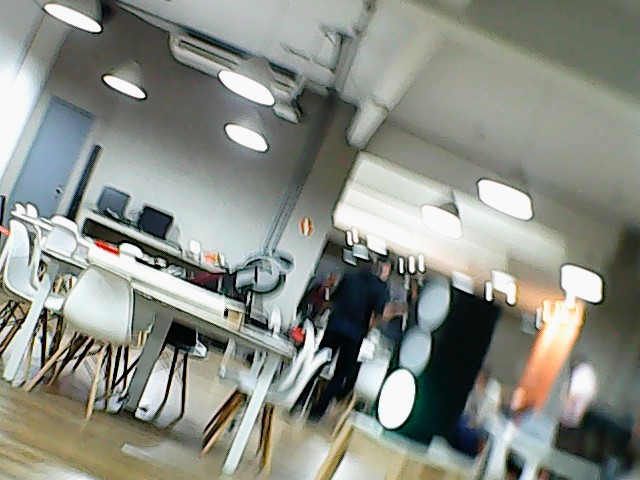verde: (370, 278, 502, 455)
